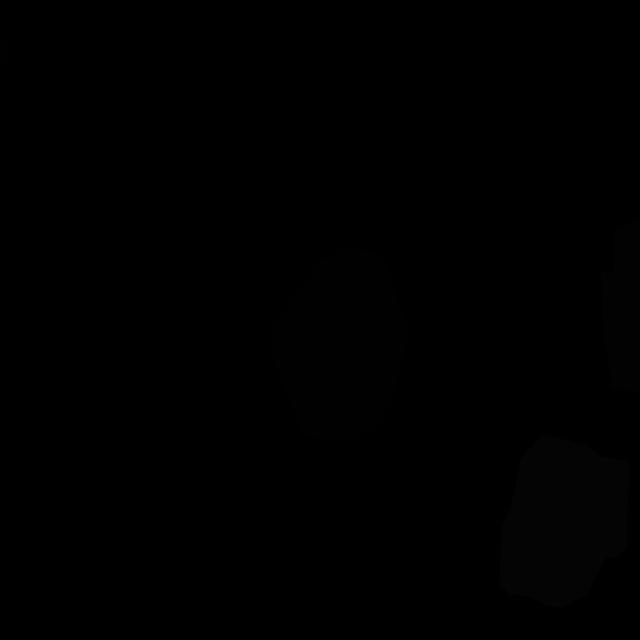cardboard: (600, 217, 640, 392)
rigid_plastic: (270, 246, 406, 441), (0, 31, 12, 70)
soft_plastic: (499, 435, 630, 608)
